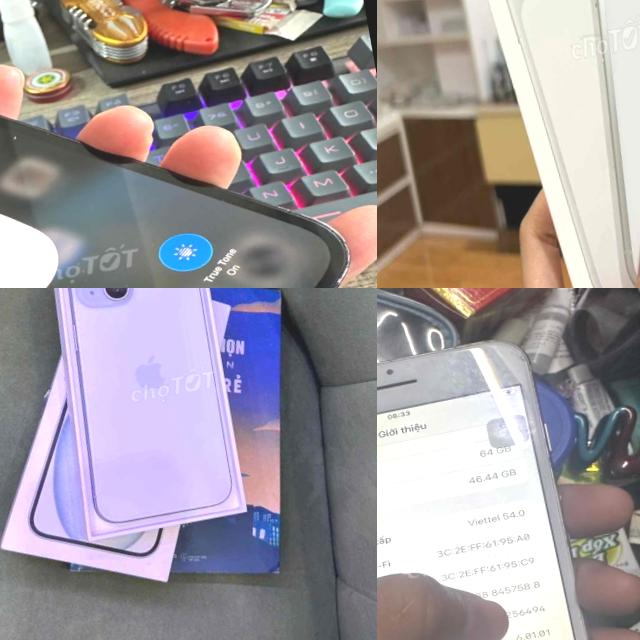gen_12_13: (0, 0, 377, 288)
gen_15: (24, 288, 253, 558)
gen_17: (547, 0, 640, 288)
gen_7_8: (377, 322, 629, 640)
